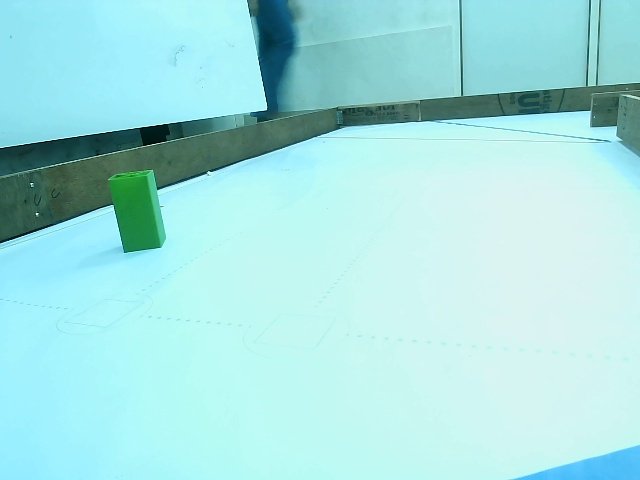green: (110, 175, 164, 253)
